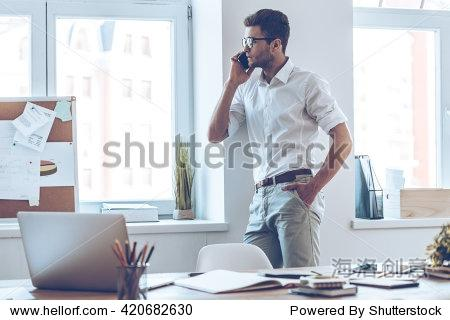phone: (233, 43, 253, 68)
